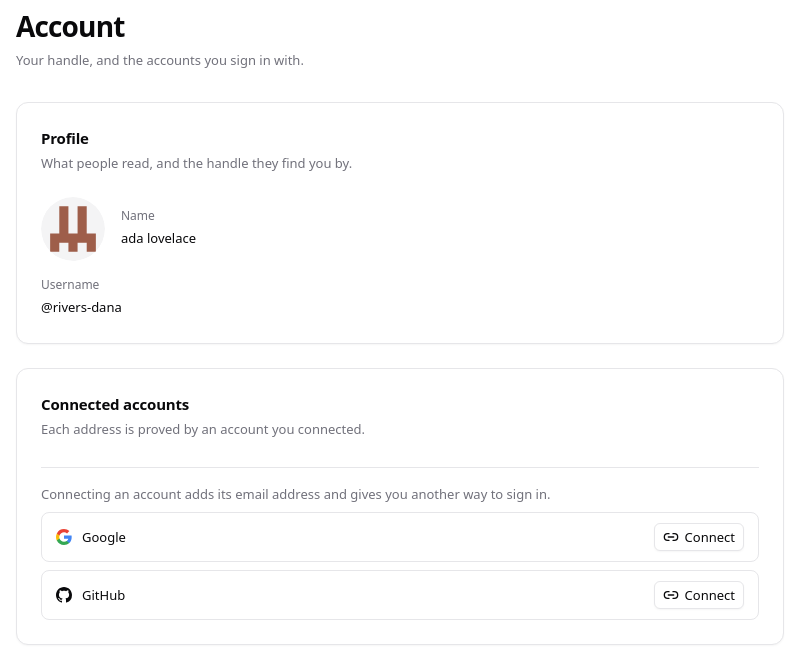
Test: username › prefills the field with the current handle
The image size is (801, 670).
Expected: the text "@rivers-dana" is shown, [41,297,122,317]
Click the button with aria-label "Edit username".
click(91, 307)  # box [35,295,148,319]
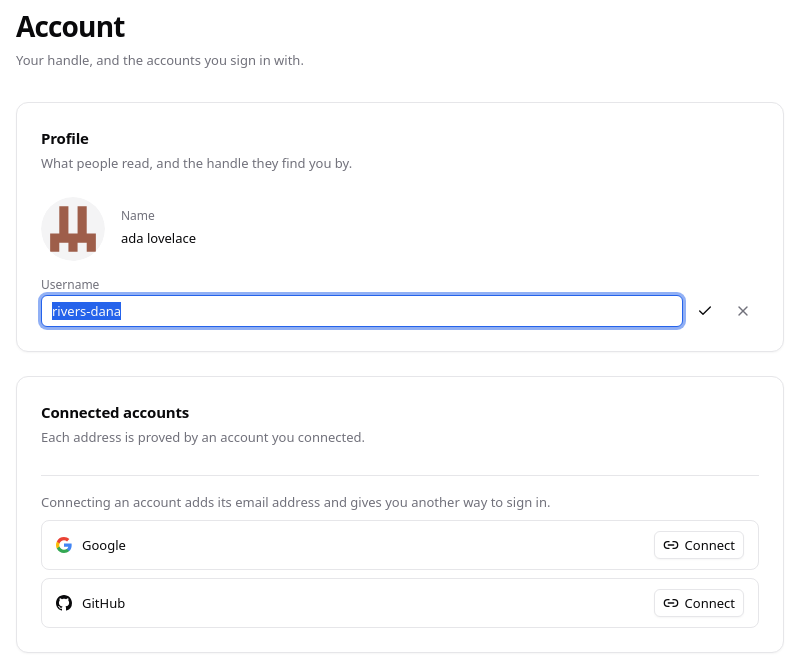
Now the field labelled "Username" holds "rivers-dana", box [41,295,683,327]
